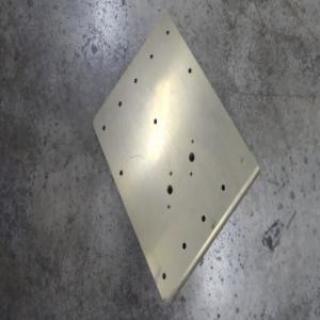MetalSheettrack_idkeyframe: (90, 11, 260, 306)
